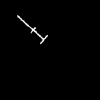double_crochet: (18, 16, 47, 43)
